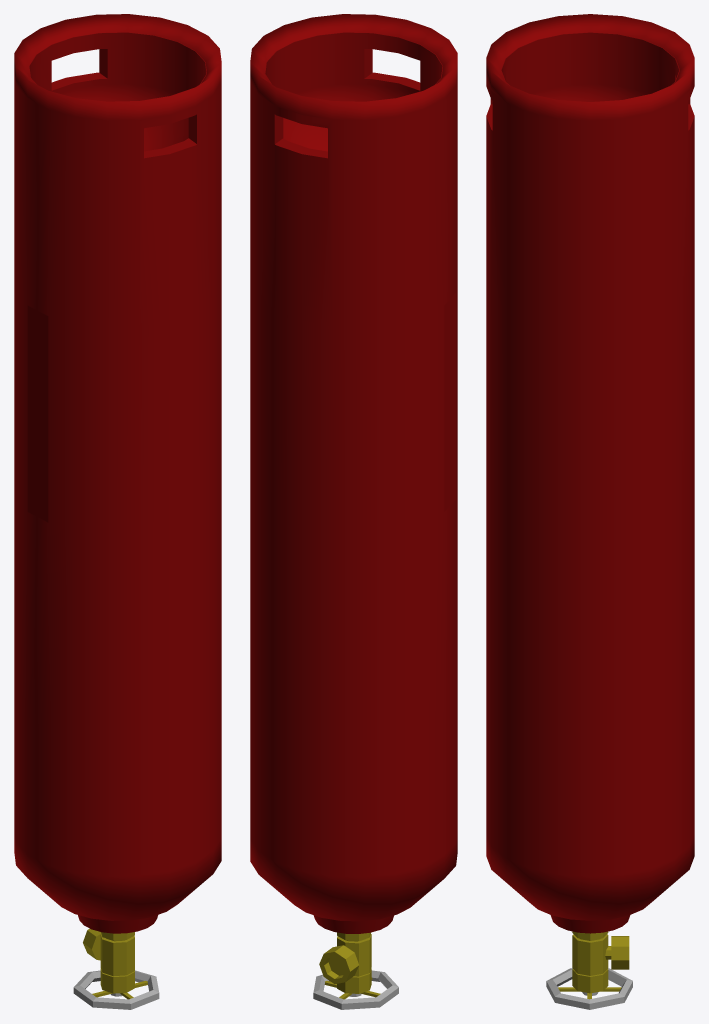
File: Tank.fbx
The picture shows the model from 3 angles, left to right: view 1: azimuth 30°, elevation 25°; view 2: azimuth 150°, elevation 25°; view 3: azimuth 270°, elevation 25°; orthographic projection.
Visible parts, largest first — view 1: group12; view 2: group12; view 3: group12.
Boxes of the visible parts, <box> form: group12: <box>14,14,221,1009</box>; group12: <box>250,14,457,1009</box>; group12: <box>486,14,694,1009</box>.
Bounding box in the file's own units: 4.29 × 21.25 × 4.29.
